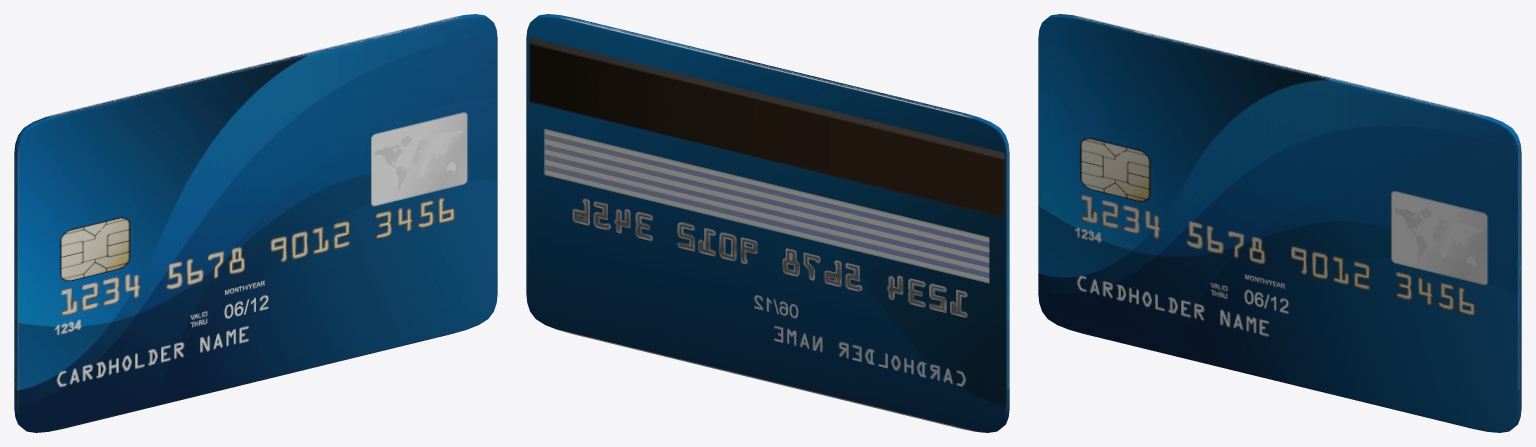
File: smart-card.fbx
3 renders of one model, left to right at view 1: azimuth 30°, elevation 25°; view 2: azimuth 150°, elevation 25°; view 3: azimuth 330°, elevation 25°, orthographic.
Parts seen in each view (by area): view 1: Box, Box1; view 2: Box1, Box; view 3: Box, Box1.
Boxes of the visible parts, x1=… form: Box: x1=15, y1=14, x2=497, y2=432; Box1: x1=14, y1=14, x2=485, y2=426; Box1: x1=526, y1=15, x2=1008, y2=432; Box: x1=537, y1=14, x2=1009, y2=427; Box: x1=1038, y1=14, x2=1520, y2=432; Box1: x1=1050, y1=14, x2=1521, y2=426.
Size of the model in its own units: 2.72 by 1.7 by 0.0378.
2 materials, 2 textured.
